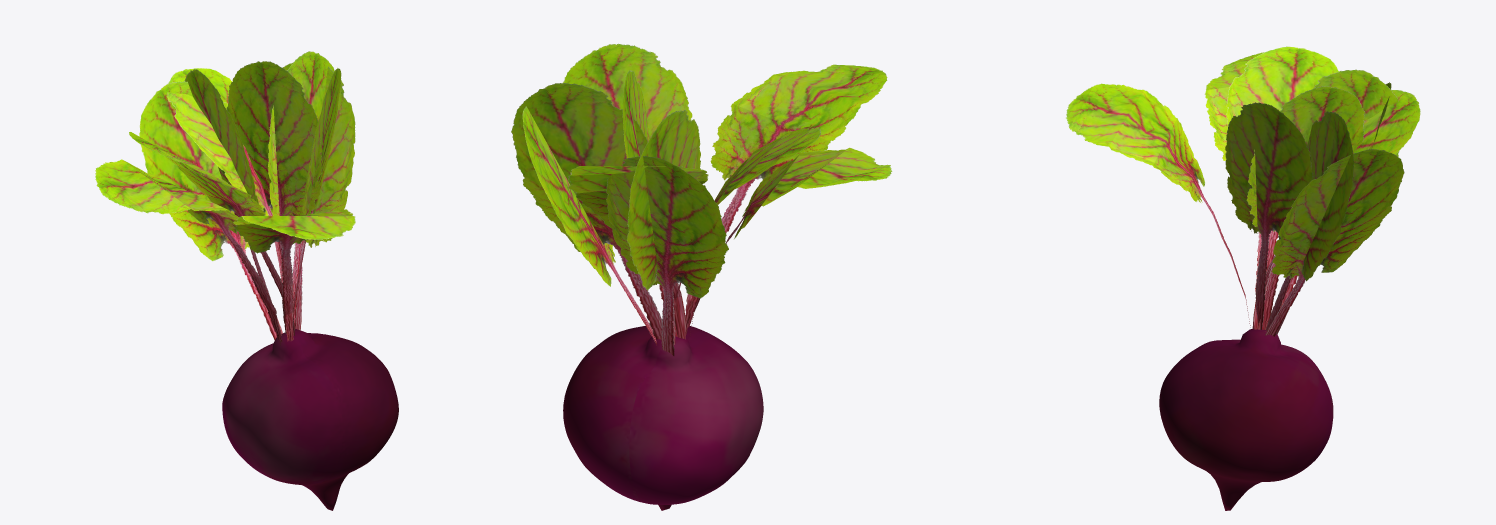
The model's file is Lavlagi.fbx.
The picture shows the model from 3 angles, left to right: view 1: azimuth 30°, elevation 25°; view 2: azimuth 150°, elevation 25°; view 3: azimuth 270°, elevation 25°; orthographic projection. The views are drawn at different scales.
Visible parts, largest first — view 1: Plane, Cube, Plane.001; view 2: Plane, Cube, Plane.001; view 3: Plane.001, Cube, Plane.
Part boxes in pixels (<box>): Plane: <box>129,61,355,341</box>; Cube: <box>222,329,398,510</box>; Plane.001: <box>95,51,355,345</box>; Plane: <box>606,64,887,355</box>; Cube: <box>563,326,763,510</box>; Plane.001: <box>511,43,892,345</box>; Plane.001: <box>1204,52,1420,336</box>; Cube: <box>1159,329,1333,510</box>; Plane: <box>1066,46,1399,334</box>.
Bounding box in the file's own units: 787 × 865 × 853.
Materials: 2 (2 with a texture image).
